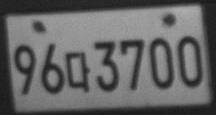0: (176, 34, 203, 88), (148, 36, 175, 89)
3: (94, 40, 119, 91)
6: (41, 43, 65, 94)
7: (119, 38, 144, 90)
9: (12, 44, 36, 95)
다: (65, 50, 91, 92)
